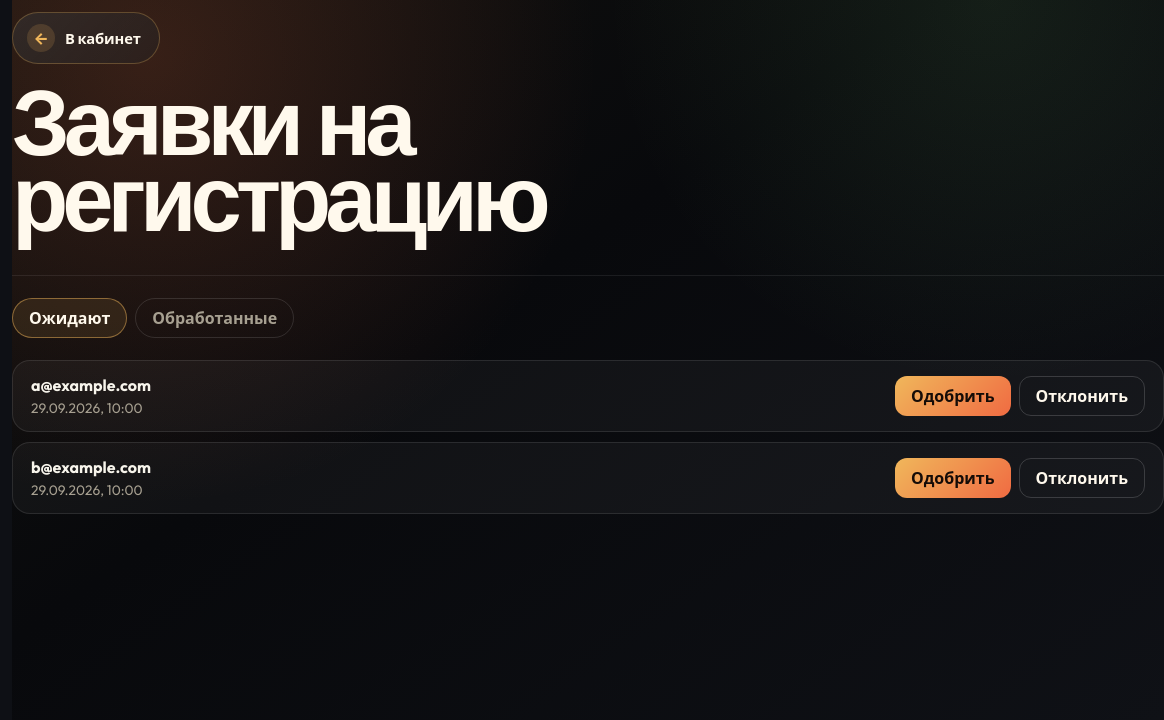
AdminPage › keeps each row locked while its own request is in flight
The width and height of the screenshot is (1164, 720).
Click the button "Одобрить" in the row of "a@example.com" at (953, 396), box [895,376,1010,416]
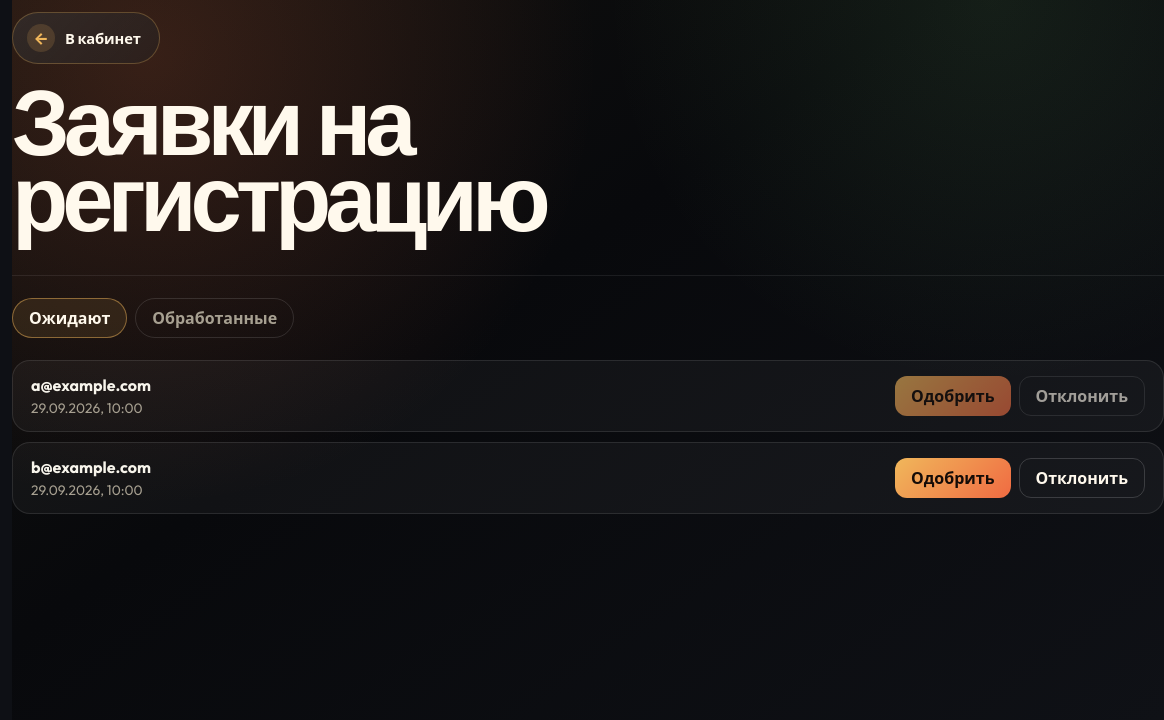
Click the button "Одобрить" in the row of "b@example.com" at (953, 478), box [895,458,1010,498]
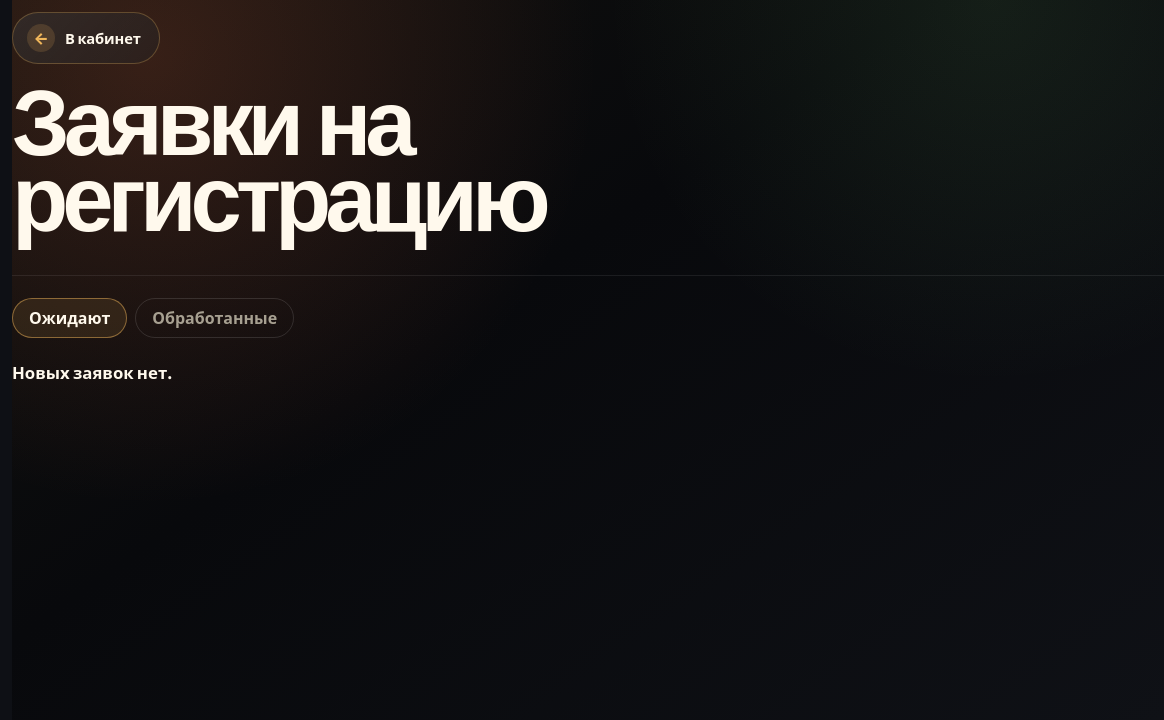
Now the text "a@example.com" is gone
Now the text "b@example.com" is gone
